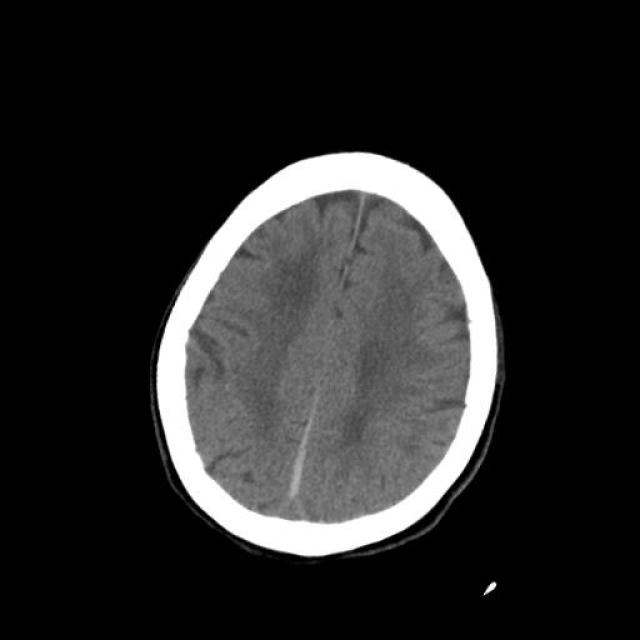Subdural: (263, 385, 359, 539)
